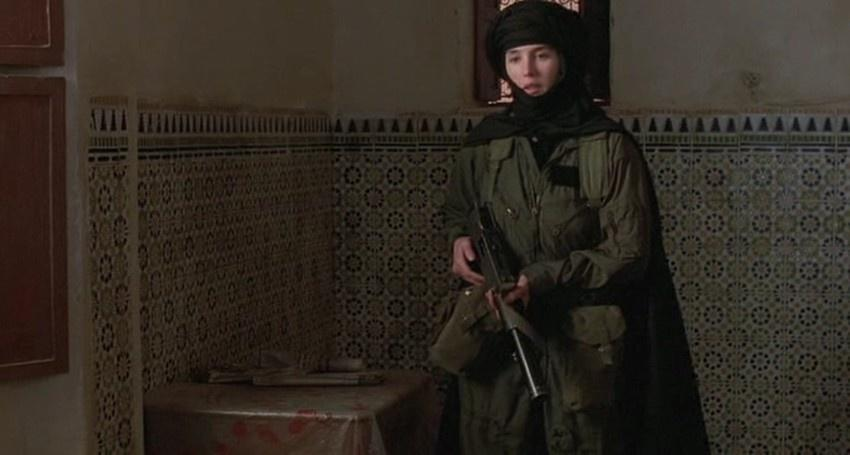gun: (455, 190, 544, 406)
